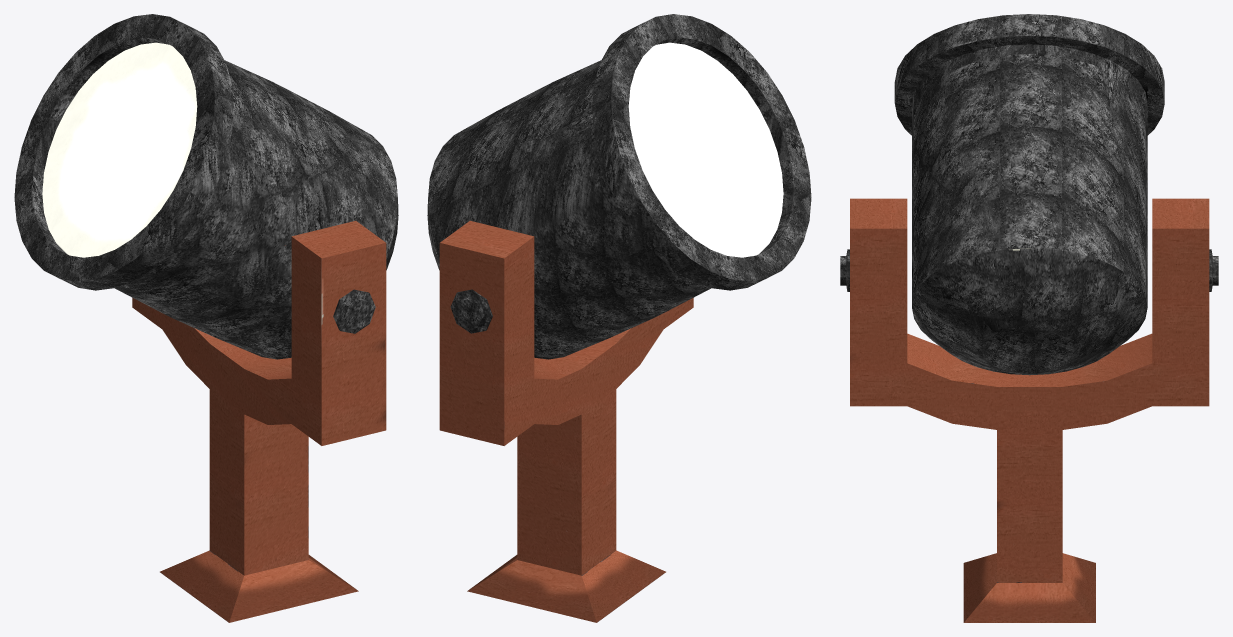
Rendered from spotlight.glb.
3 renders of one model, left to right at view 1: azimuth 30°, elevation 25°; view 2: azimuth 150°, elevation 25°; view 3: azimuth 270°, elevation 25°, orthographic. The views are drawn at different scales.
Parts seen in each view (by area): view 1: Spot; view 2: Spot; view 3: Spot.
Part boxes in pixels (<box>): Spot: <box>14,14,398,622</box>; Spot: <box>427,14,811,622</box>; Spot: <box>840,14,1218,622</box>.
Size of the model in its own units: 20.18 by 33.27 by 20.94.
Materials: 1 (1 with a texture image).
